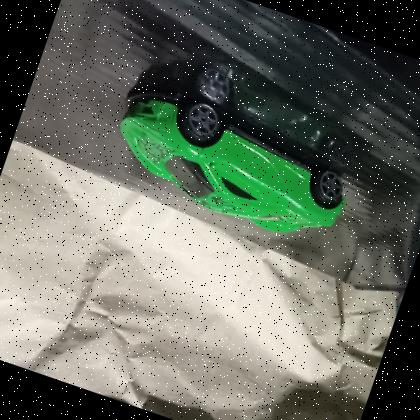Car: (95, 70, 368, 258)
